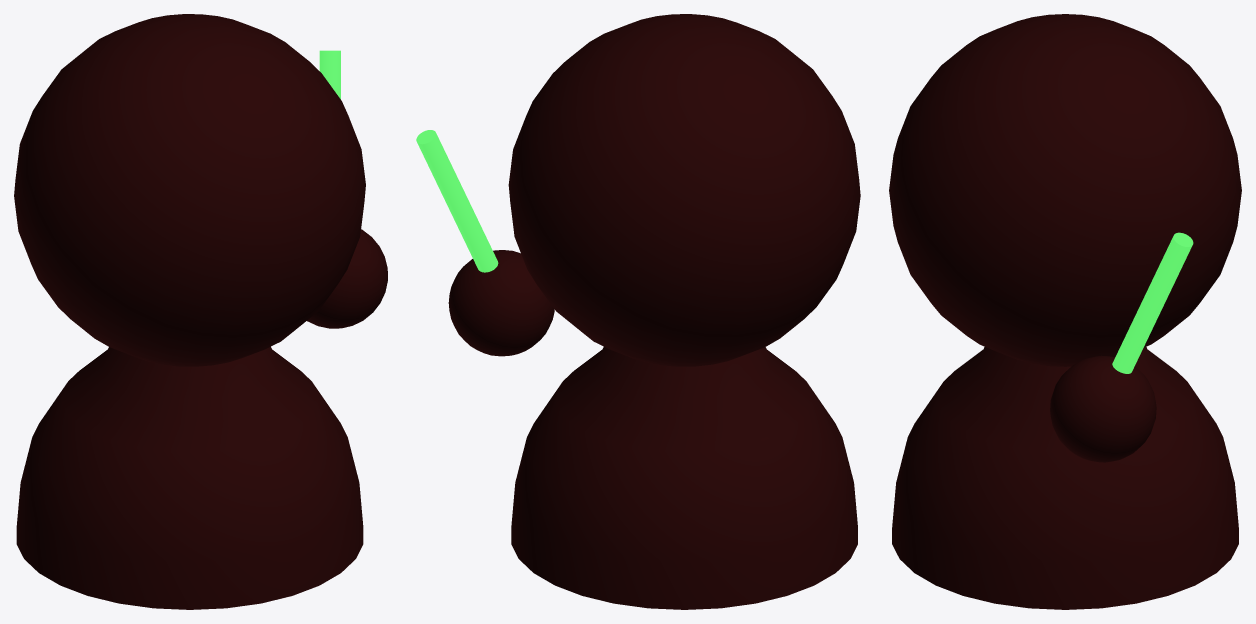
Rendered from 서커스 관객 초록봉.fbx.
The picture shows the model from 3 angles, left to right: view 1: azimuth 30°, elevation 25°; view 2: azimuth 150°, elevation 25°; view 3: azimuth 270°, elevation 25°; orthographic projection.
Visible parts, largest first — view 1: Cone, Sphere, Cylinder; view 2: Cone, Sphere, Cylinder; view 3: Cone, Sphere, Cylinder.
Boxes of the visible parts, bbox=[...] form: Cone: bbox=[14, 14, 365, 609]; Sphere: bbox=[307, 229, 387, 328]; Cylinder: bbox=[319, 50, 340, 99]; Cone: bbox=[508, 14, 860, 609]; Sphere: bbox=[448, 250, 554, 356]; Cylinder: bbox=[416, 130, 498, 272]; Cone: bbox=[889, 14, 1241, 609]; Sphere: bbox=[1050, 355, 1156, 462]; Cylinder: bbox=[1112, 232, 1193, 373].
Bounding box in the file's own units: 198 × 264 × 167.
